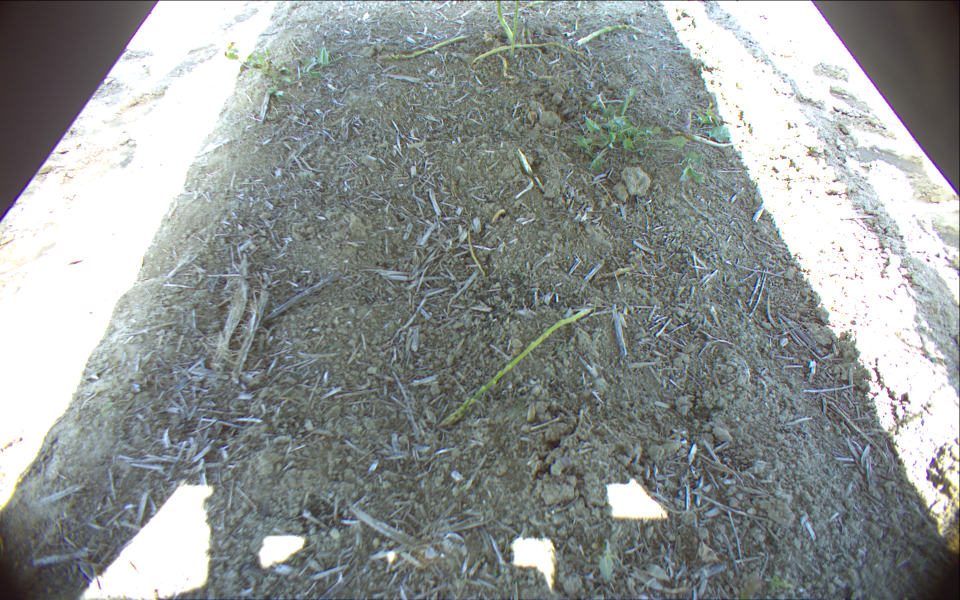aspa: (439, 309, 591, 430), (375, 35, 467, 62), (475, 40, 568, 61), (576, 23, 646, 47), (676, 133, 739, 146), (496, 1, 513, 41), (497, 55, 519, 84), (502, 1, 544, 15), (510, 1, 518, 56), (523, 18, 531, 47)
